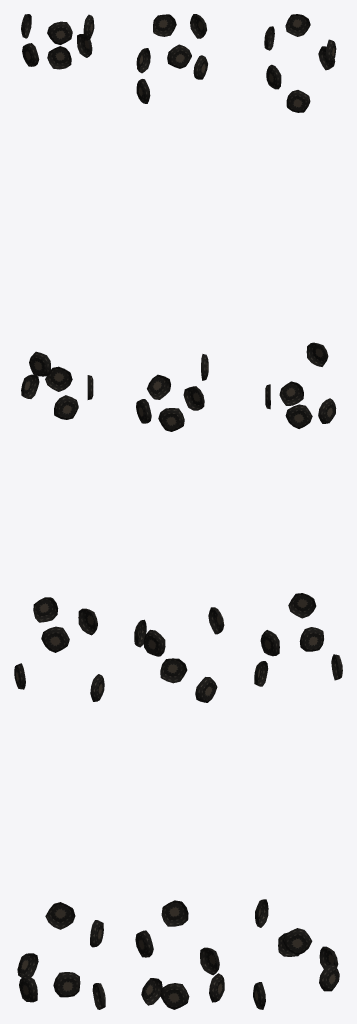
File: Sitka_Young_02_HighPruned_Healed_LOD1.fbx
The picture shows the model from 3 angles, left to right: view 1: azimuth 90°, elevation 25°; view 2: azimuth 210°, elevation 25°; view 3: azimuth 270°, elevation 25°; orthographic projection.
Parts seen in each view (by area): view 1: Sitka_Young_02_HighPruned_Healed_LOD1_Scars; view 2: Sitka_Young_02_HighPruned_Healed_LOD1_Scars; view 3: Sitka_Young_02_HighPruned_Healed_LOD1_Scars.
Part boxes in pixels (x1,y1,x2,y2): Sitka_Young_02_HighPruned_Healed_LOD1_Scars: [14, 14, 105, 1009]; Sitka_Young_02_HighPruned_Healed_LOD1_Scars: [134, 14, 224, 1009]; Sitka_Young_02_HighPruned_Healed_LOD1_Scars: [253, 14, 342, 1009].
Size of what is drawn, in the model's own units: 17.68 by 215 by 17.79.
2 materials, 2 textured.
